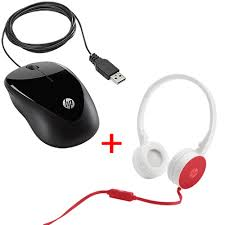hp-mouse-X1000: (1, 9, 127, 144)
